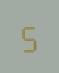five: (19, 19, 37, 53)
